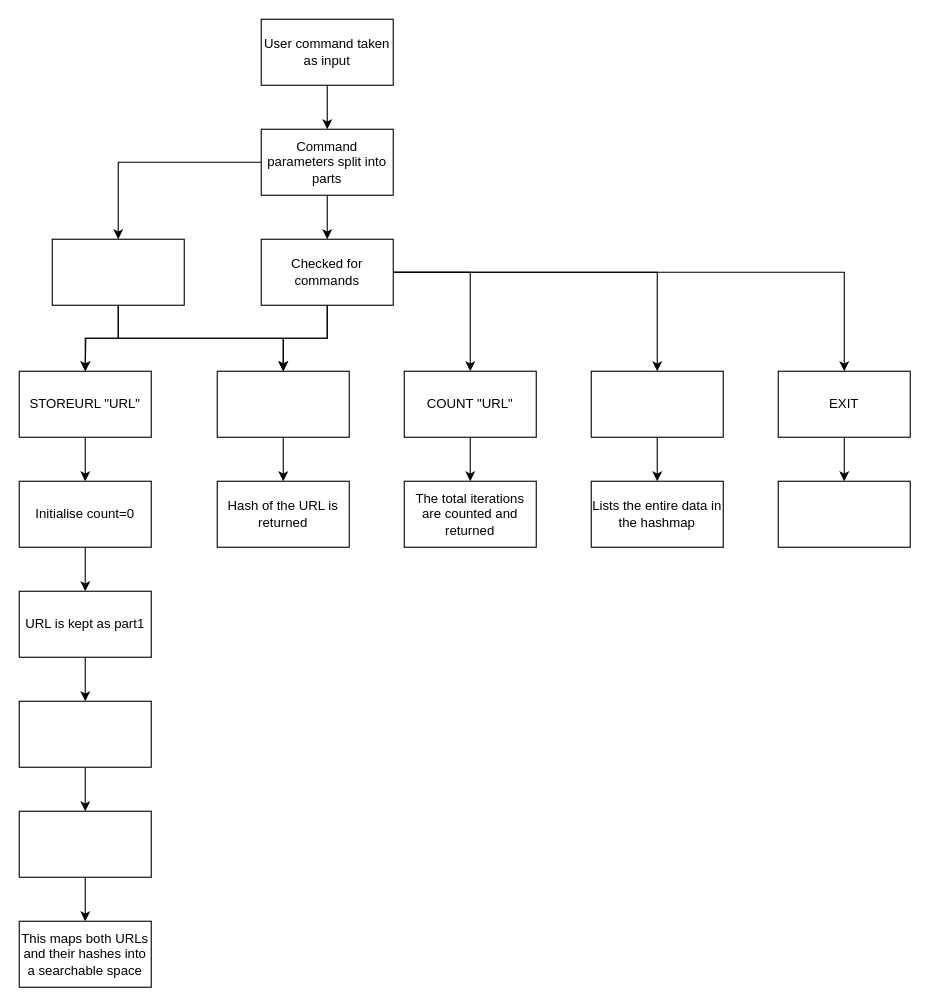
The diagram is 930 pixels wide and 1007 high, and some of its shapes have lost their labels. Here are the shapes that lost their labels. From the top down, the box of each, then its label:
(51, 238, 184, 305): URL Name is hashed to output short key
(216, 370, 349, 437): GET "URL"
(590, 370, 723, 437): LIST
(777, 480, 910, 547): Exit the program
(18, 700, 151, 767): Hash of URL is kept as part2
(18, 810, 151, 877): Both of them are compared using a HashMap
